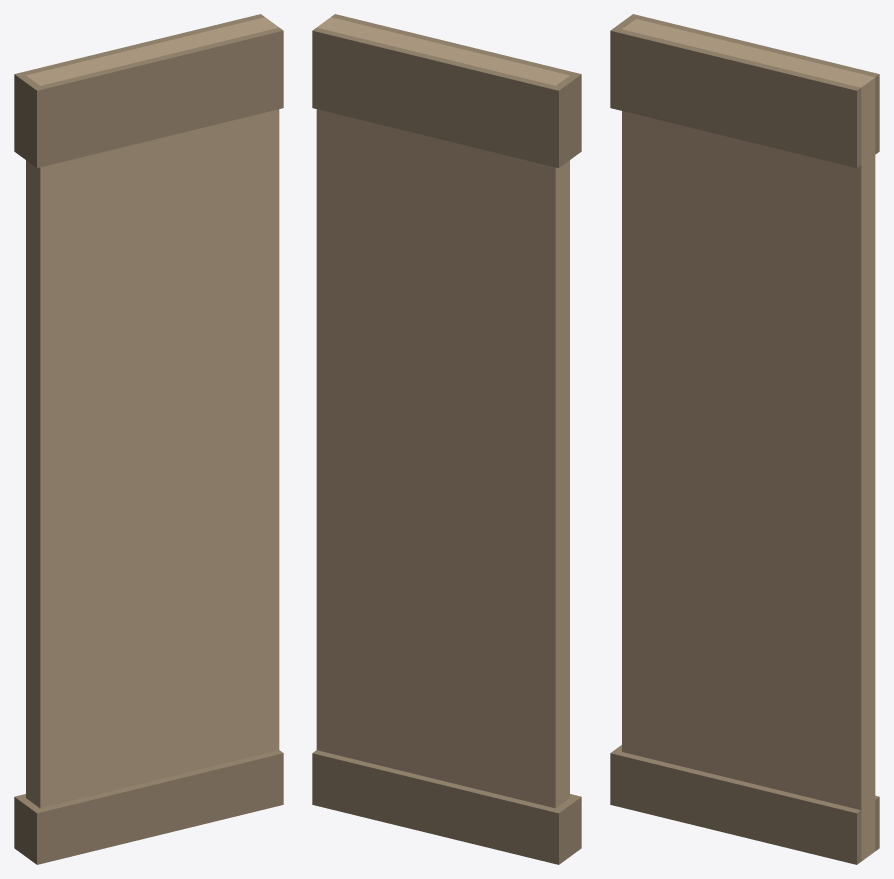
File: Parede_E.fbx
The picture shows the model from 3 angles, left to right: view 1: azimuth 30°, elevation 25°; view 2: azimuth 150°, elevation 25°; view 3: azimuth 330°, elevation 25°; orthographic projection.
Parts seen in each view (by area): view 1: Parede_E; view 2: Parede_E; view 3: Parede_E.
Boxes of the visible parts, x1,y1,x2,y2 form: Parede_E: (14,14,283,864); Parede_E: (312,14,581,864); Parede_E: (610,14,879,864).
Bounding box in the file's own units: 100 × 300 × 16.
